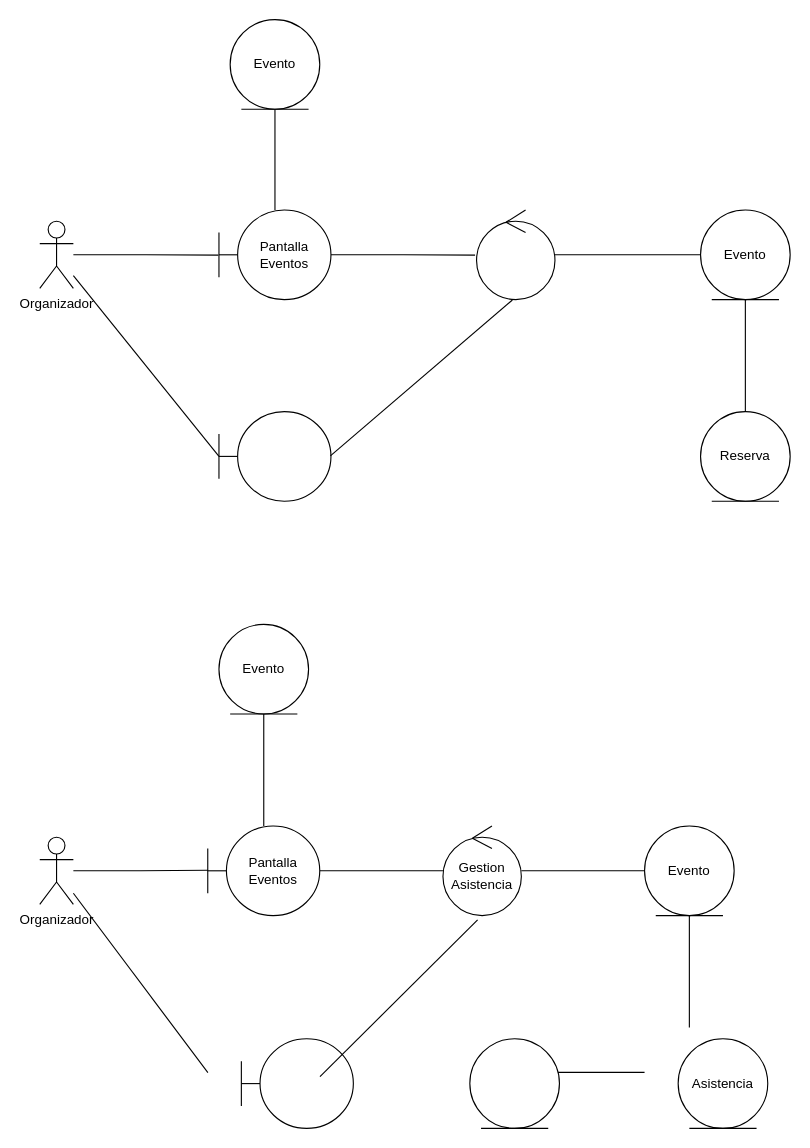
Image size: 810x1148. Some labels were removed from this diagram. The centre of each missing label's shape, as x and y in pixels:
"Estudiante" belongs at point (514, 1083).
"Gestion Reserva" belongs at point (515, 254).
"Reporte Asistencia" belongs at point (296, 1083).
"Reporte Reservas" belongs at point (274, 455).
